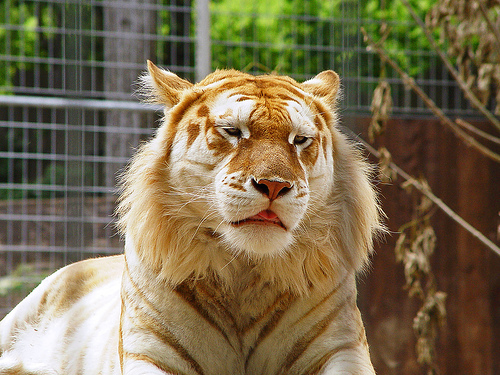Tigre: (113, 40, 395, 373)
